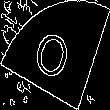O_SW: (32, 22, 78, 88)
